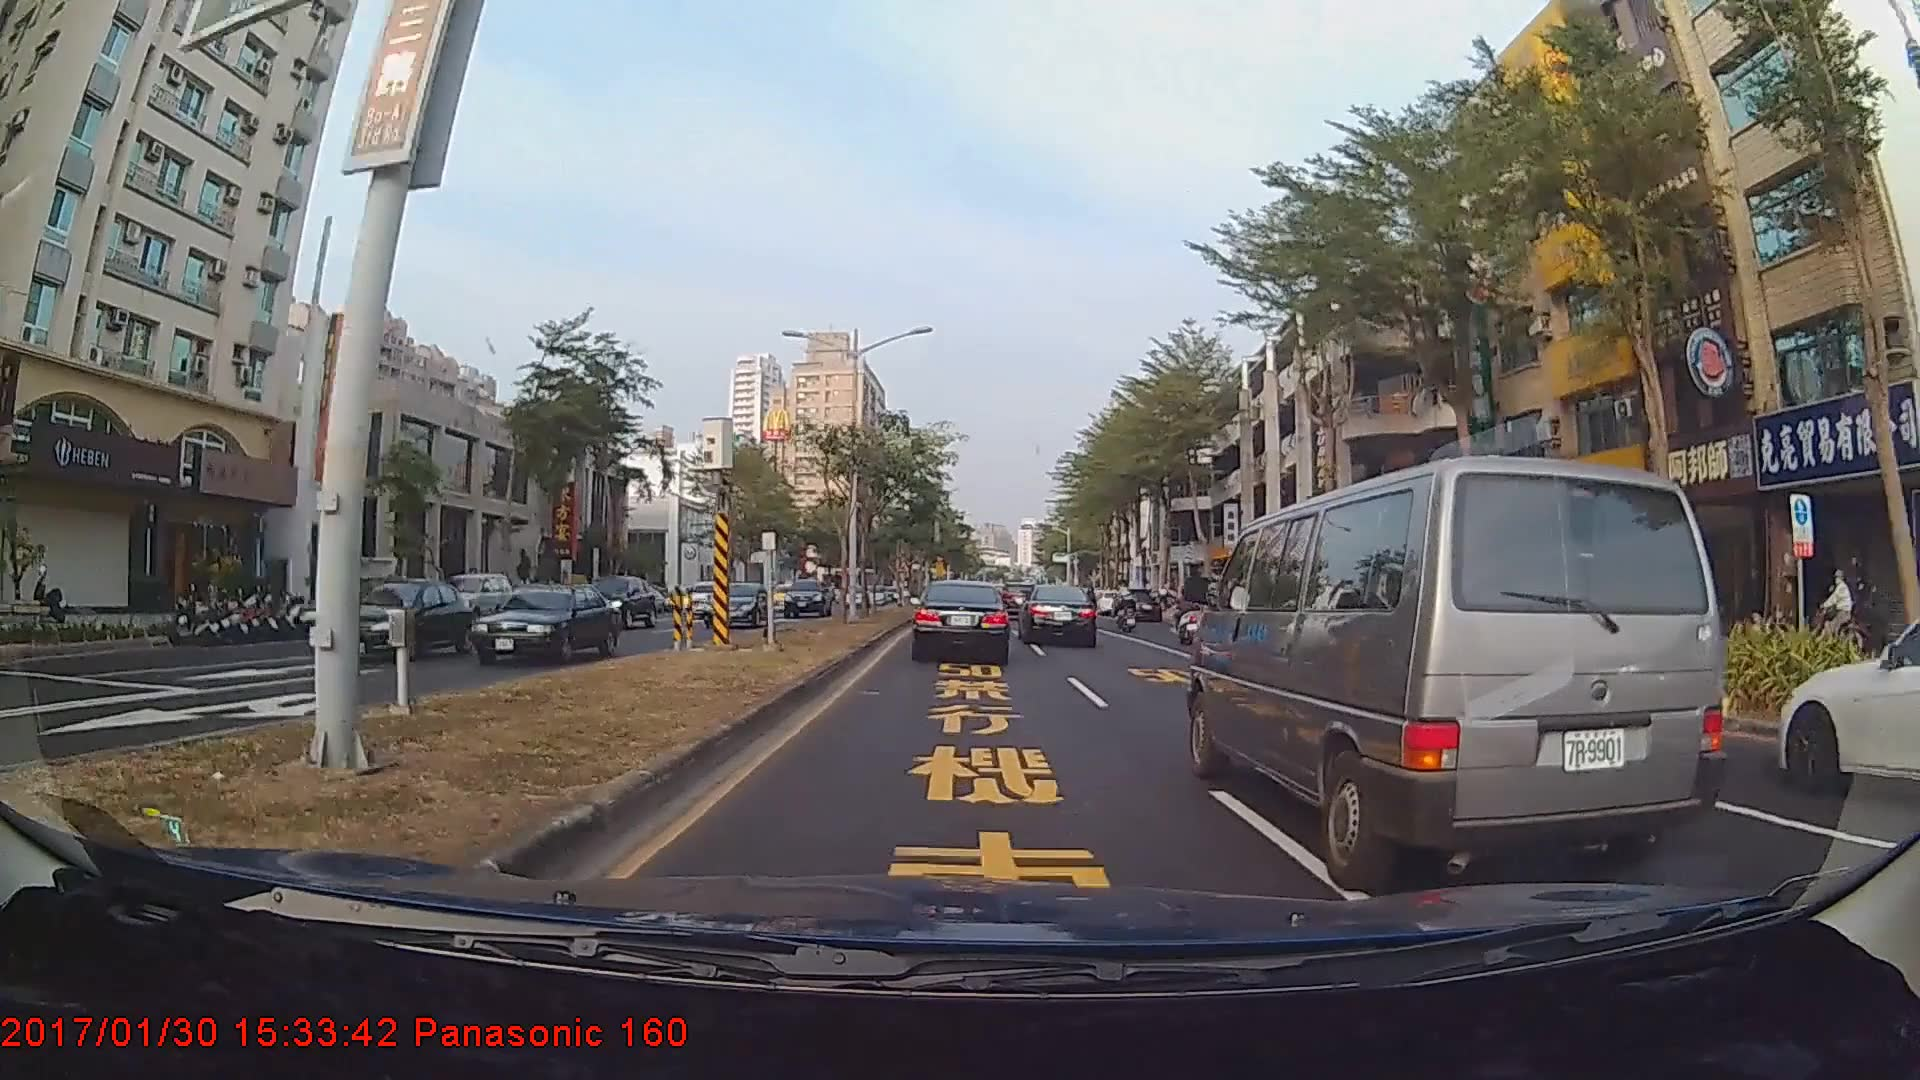vehicle: (1192, 444, 1722, 882), (1775, 584, 1919, 812), (463, 579, 622, 669), (324, 580, 479, 662), (913, 582, 1010, 665), (1021, 583, 1098, 647), (574, 574, 658, 630), (436, 574, 516, 624), (702, 580, 769, 628), (678, 579, 731, 618), (782, 578, 829, 615)
